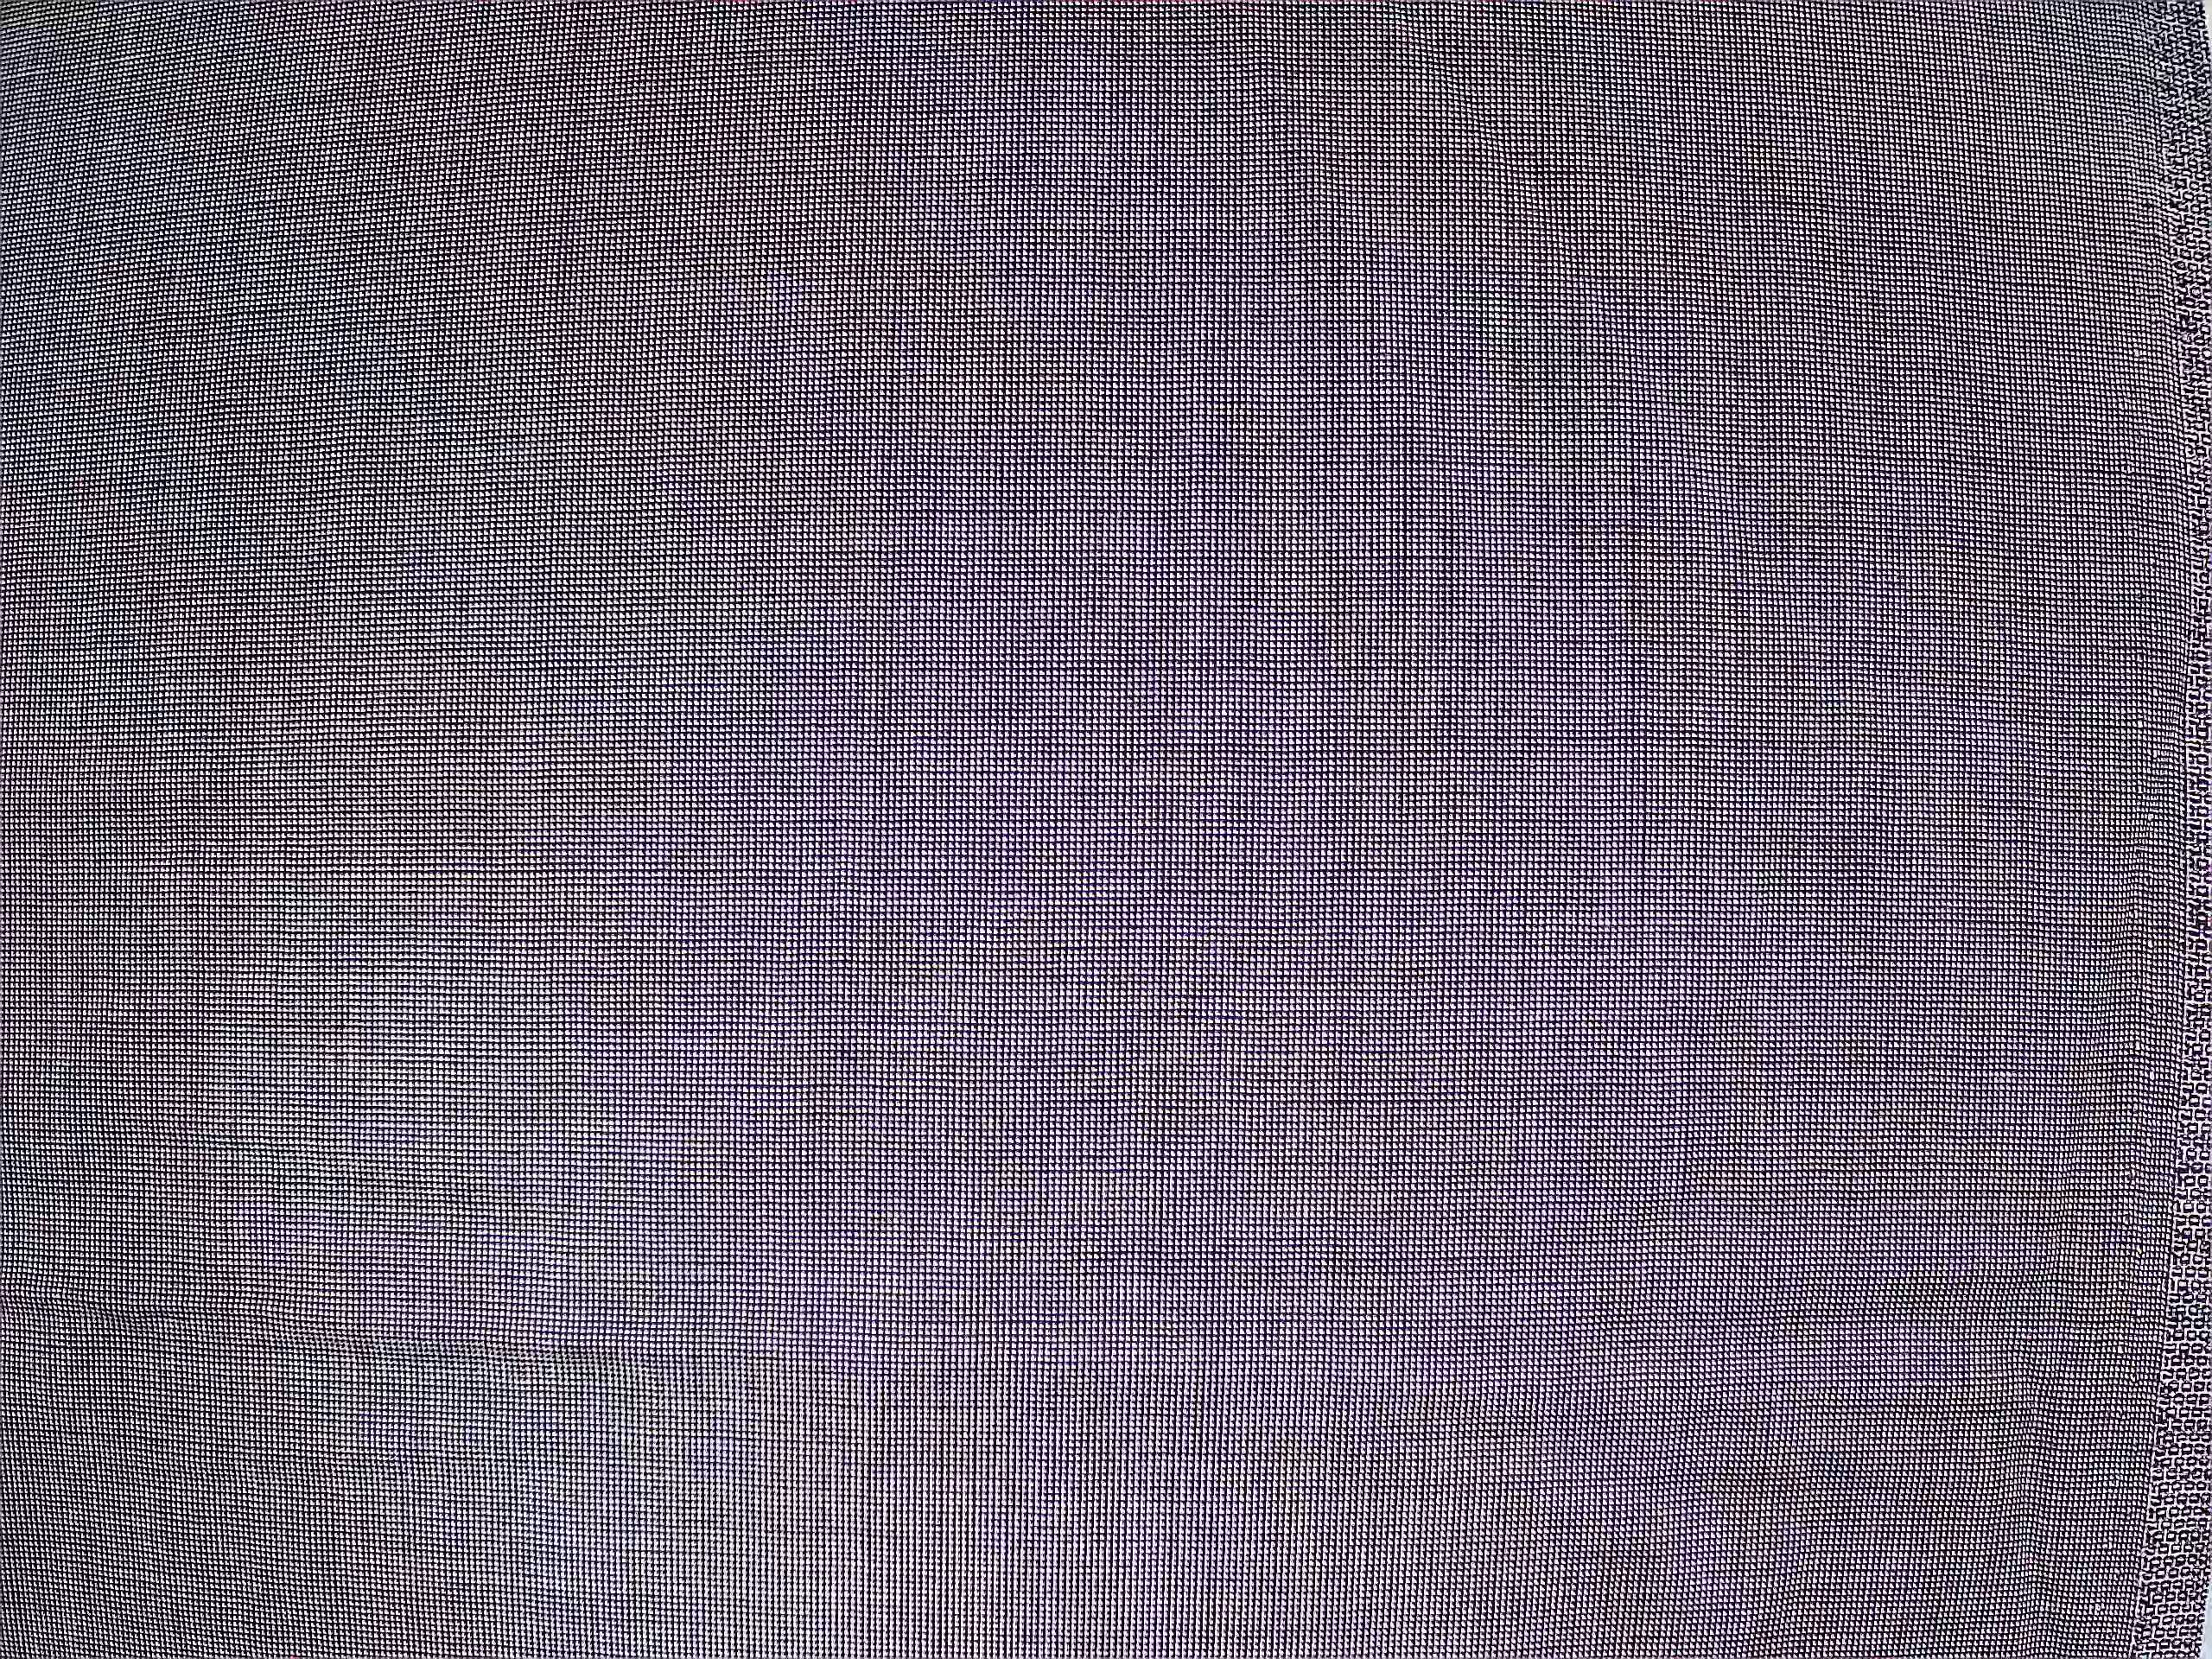stains: (1067, 896, 1567, 1340)
